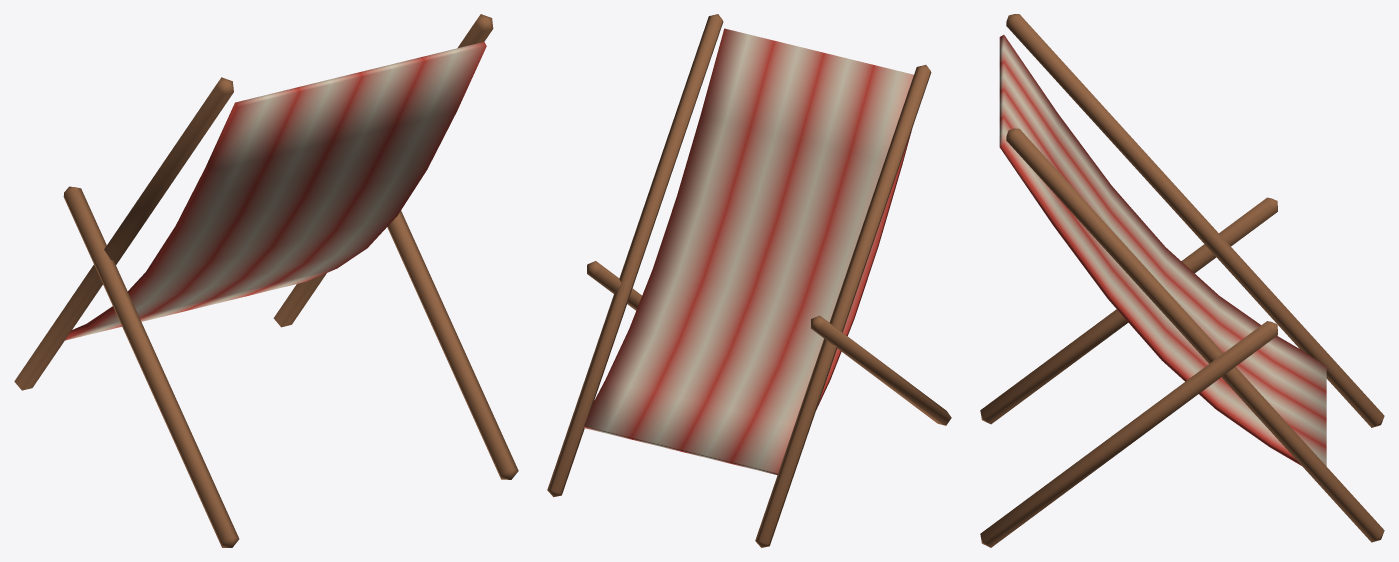
File: deck_chair.glb
The picture shows the model from 3 angles, left to right: view 1: azimuth 30°, elevation 25°; view 2: azimuth 150°, elevation 25°; view 3: azimuth 270°, elevation 25°; orthographic projection. The views are drawn at different scales.
Visible parts, largest first — view 1: deck_chair; view 2: deck_chair; view 3: deck_chair.
Part boxes in pixels (box(x1,y1,x2,y2)): deck_chair: box(14, 14, 518, 547); deck_chair: box(547, 14, 951, 547); deck_chair: box(980, 14, 1384, 547).
Size of the model in its own units: 0.5942 by 0.8727 by 0.7753.
